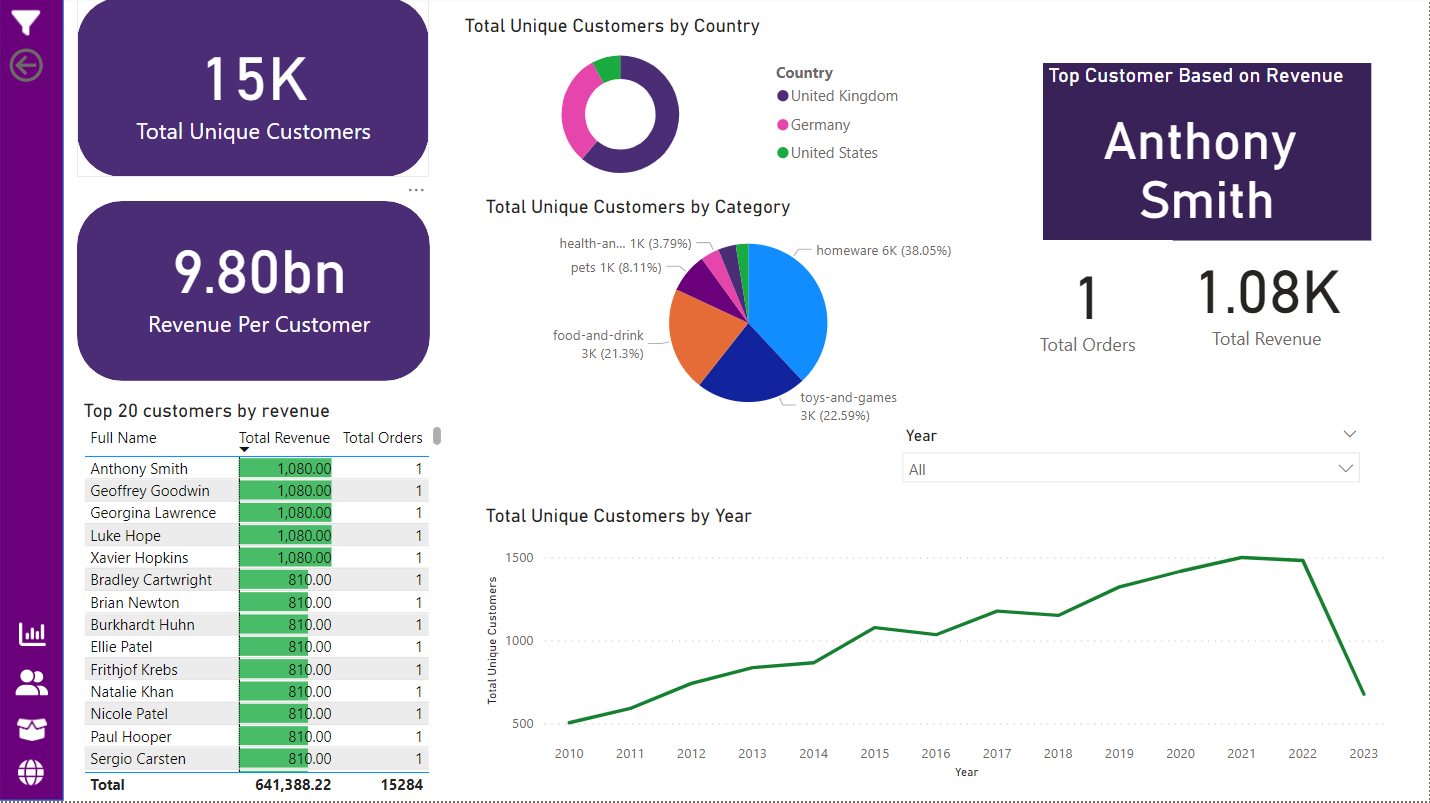

The dashboard page shown, as its layout file describes it:
{"tool":"powerbi","page":{"name":"Customer Info","canvas":[1280,720],"ordinal":1},"visuals":[{"type":"shape","box":[0,0,56.7,719.6],"z":0},{"type":"shape","box":[70.1,188.1,315.6,161],"z":1000},{"type":"shape","box":[70.4,15.3,315.4,160.8],"z":2000},{"type":"card","fields":{"Values":["Measures Table.Total Customers"]},"box":[101.5,15,252.7,150],"z":3000},{"type":"card","fields":{"Values":["Measures Table.Revenue Per Customer"]},"box":[70.1,176.9,315.6,161],"z":4000},{"type":"donutChart","fields":{"Category":["Customers.Country"],"Y":["Measures Table.Total Customers"]},"box":[411.8,15.3,408,160.6],"z":5000},{"type":"columnChart","fields":{"Category":["Products.Category"],"Y":["Measures Table.Total Customers"]},"box":[431.1,176.6,367.8,210.9],"z":6000},{"type":"lineChart","fields":{"Y":["Measures Table.Total Customers"],"Category":["Dates.Start Of Month.Variation.Date Hierarchy.Month"]},"box":[825.8,116.7,429.9,250],"z":7000},{"type":"card","title":"Top Customer Based on Revenue","fields":{"Values":["Customers.Full Name"]},"box":[412.4,451.4,294,158.7],"z":8000},{"type":"card","fields":{"Values":["Measures Table.Total Orders"]},"box":[706.2,395.3,151.4,110],"z":9000},{"type":"card","fields":{"Values":["Measures Table.Total Revenue"]},"box":[706.2,505.3,188.1,151.4],"z":10000},{"type":"tableEx","fields":{"Values":["Customers.Full Name","Measures Table.Total Revenue","Measures Table.Total Orders"]},"box":[70.1,360.2,315.6,358.7],"z":11000},{"type":"slicer","fields":{"Values":["Dates.Year"]},"box":[825.8,20.4,429.9,74.9],"z":12000}]}

Visuals, with their boxes on the page's 1280x720 design canvas (x1, y1, x2, y2). These are canvas units, not pixel positions in the 1430x803 screenshot, which may show the page scaled, cropped or inside an application window:
shape: bbox=(0, 0, 57, 720)
shape: bbox=(70, 188, 386, 349)
shape: bbox=(70, 15, 386, 176)
card - Measures Table.Total Customers: bbox=(102, 15, 354, 165)
card - Measures Table.Revenue Per Customer: bbox=(70, 177, 386, 338)
donutChart - Customers.Country x Measures Table.Total Customers: bbox=(412, 15, 820, 176)
columnChart - Products.Category x Measures Table.Total Customers: bbox=(431, 177, 799, 388)
lineChart - Measures Table.Total Customers x Dates.Start Of Month.Variation.Date Hierarchy.Month: bbox=(826, 117, 1256, 367)
"Top Customer Based on Revenue" card: bbox=(412, 451, 706, 610)
card - Measures Table.Total Orders: bbox=(706, 395, 858, 505)
card - Measures Table.Total Revenue: bbox=(706, 505, 894, 657)
tableEx - Customers.Full Name x Measures Table.Total Revenue: bbox=(70, 360, 386, 719)
slicer - Dates.Year: bbox=(826, 20, 1256, 95)
